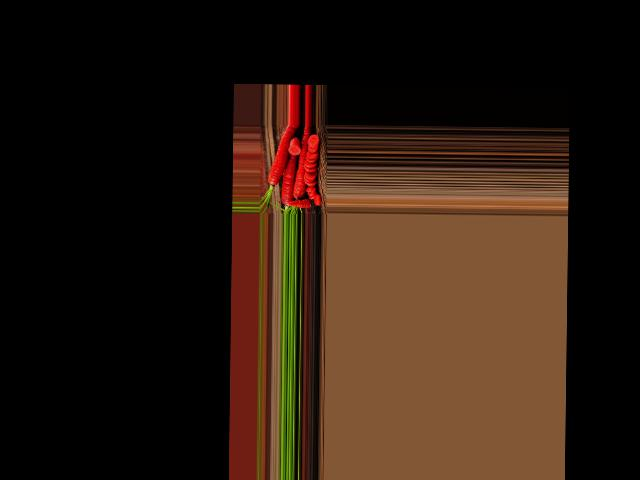carrot: (290, 123, 313, 204)
